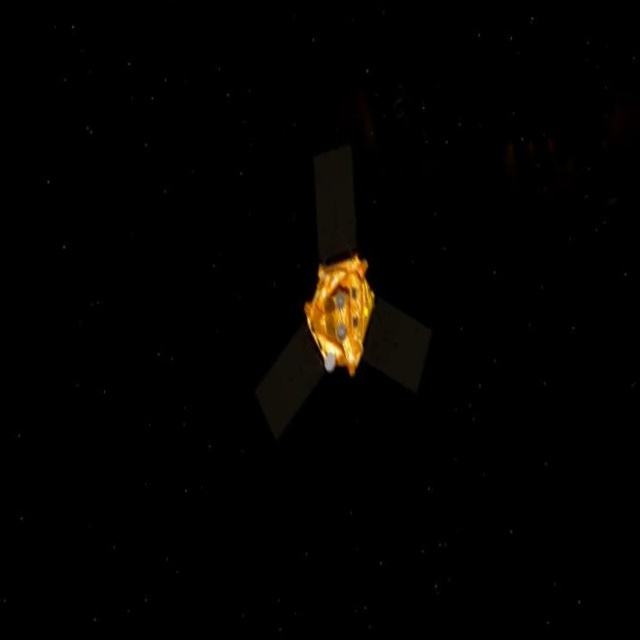medium_debris: (297, 205, 372, 418)
